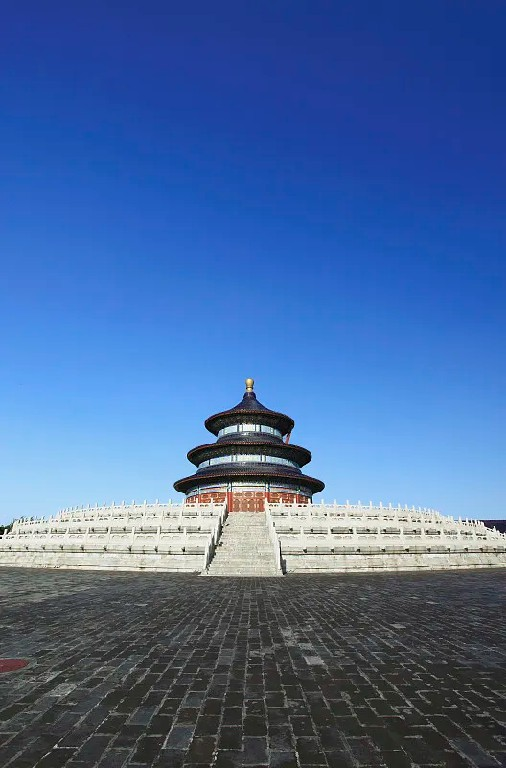Heaven: (172, 378, 325, 515)
